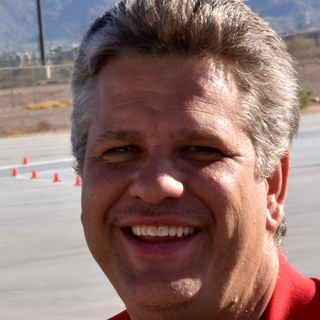eye: (171, 136, 233, 164), (96, 139, 147, 163)
